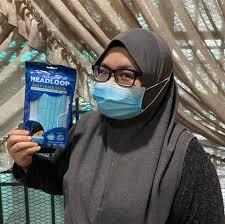Wearing Mask: (77, 0, 192, 139)
